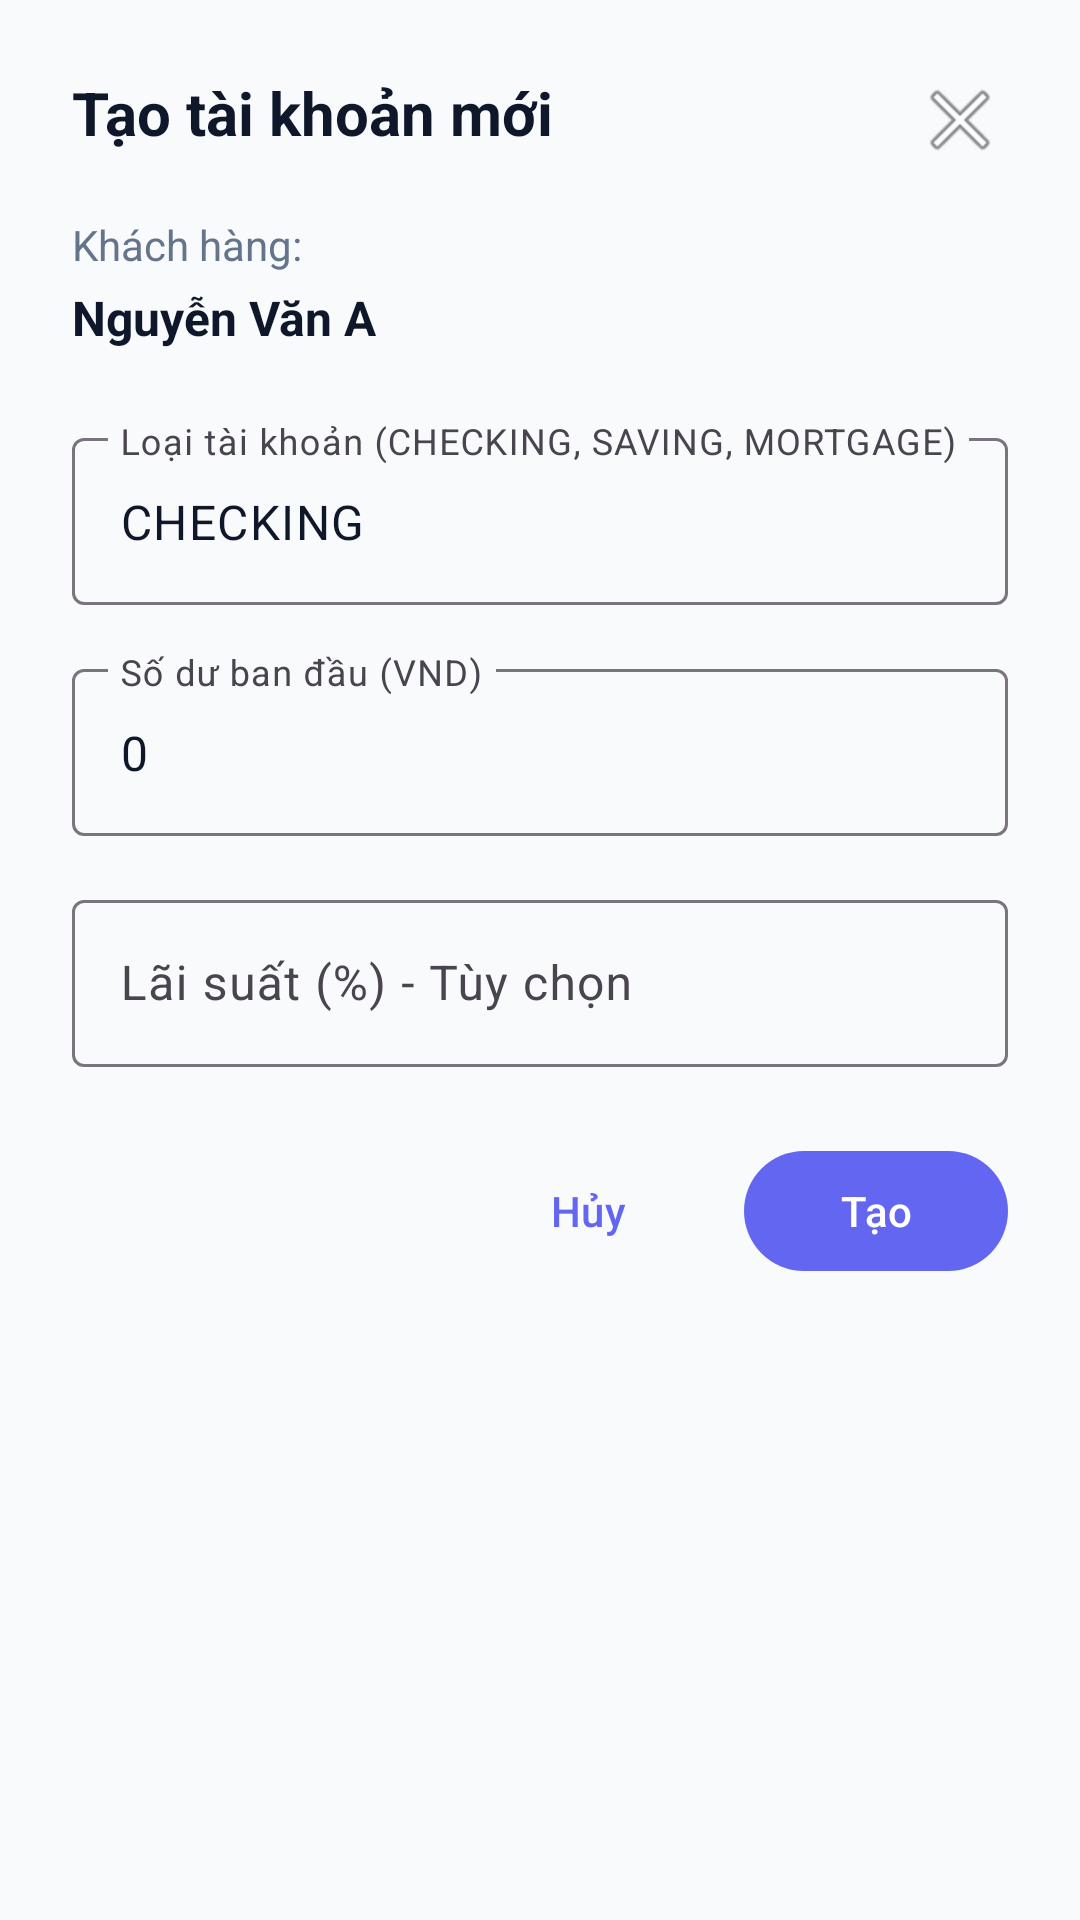

Icons on this 1080*1920 Android screen, each with the point to tap as point (x, y):
Đóng: point (960, 120)
